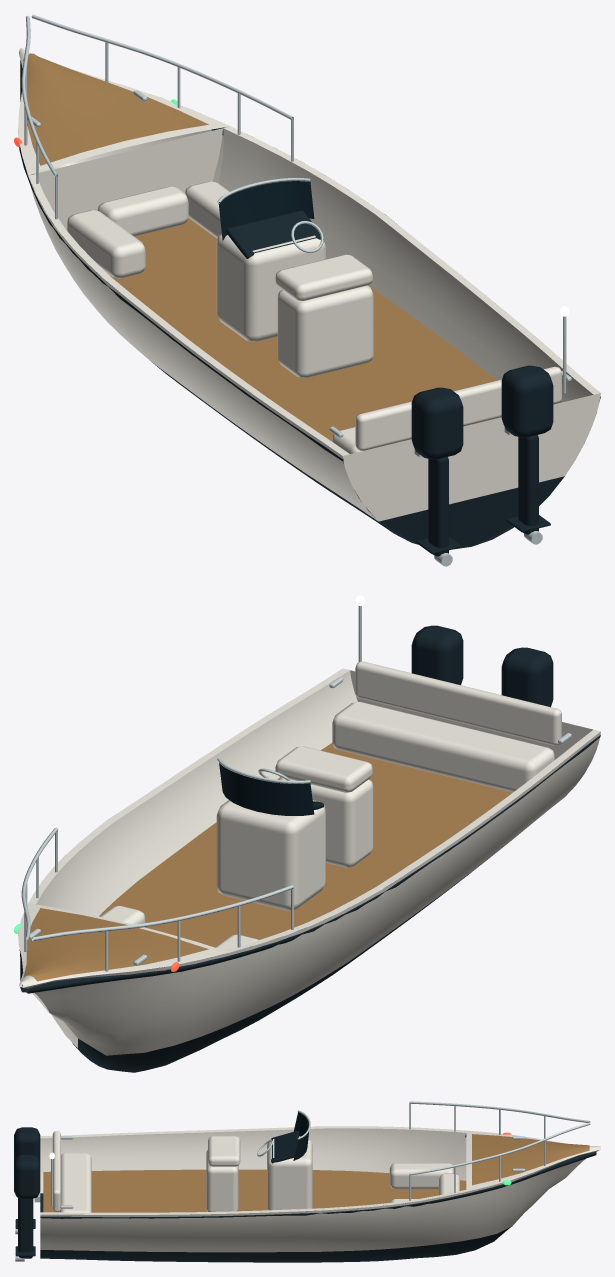
Rendered from tender-low.glb.
3 renders of one model, top to bottom at view 1: azimuth 30°, elevation 25°; view 2: azimuth 150°, elevation 25°; view 3: azimuth 270°, elevation 25°, orthographic. The views are drawn at different scales.
Visible parts, largest first — view 1: v4-ivory-gelcoat, v4-teak, v4-navy-boot, v4-stainless, v4-dark-glazing; view 2: v4-ivory-gelcoat, v4-teak, v4-navy-boot, v4-stainless, v4-dark-glazing; view 3: v4-ivory-gelcoat, v4-teak, v4-navy-boot, v4-stainless, v4-dark-glazing.
Boxes of the visible parts, x1=… form: v4-ivory-gelcoat: x1=18, y1=47, x2=600, y2=521; v4-teak: x1=23, y1=53, x2=497, y2=441; v4-navy-boot: x1=19, y1=60, x2=600, y2=556; v4-stainless: x1=21, y1=14, x2=571, y2=566; v4-dark-glazing: x1=218, y1=180, x2=314, y2=240; v4-ivory-gelcoat: x1=18, y1=661, x2=600, y2=1055; v4-teak: x1=23, y1=743, x2=512, y2=981; v4-navy-boot: x1=19, y1=625, x2=600, y2=1072; v4-stainless: x1=21, y1=606, x2=571, y2=971; v4-dark-glazing: x1=219, y1=763, x2=314, y2=815; v4-ivory-gelcoat: x1=40, y1=1126, x2=600, y2=1252; v4-teak: x1=43, y1=1134, x2=589, y2=1212; v4-navy-boot: x1=14, y1=1127, x2=596, y2=1262; v4-stainless: x1=15, y1=1101, x2=590, y2=1261; v4-dark-glazing: x1=293, y1=1112, x2=308, y2=1160.
Size of the model in its own units: 3.4 by 2.51 by 10.
